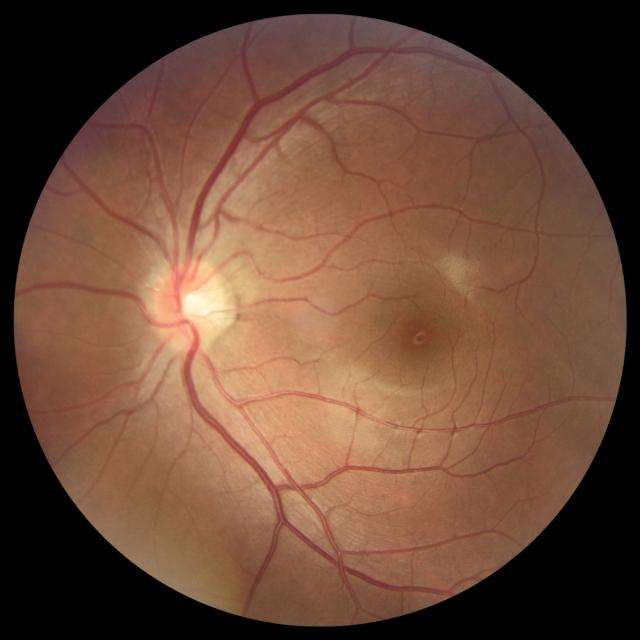OC: (175, 288, 210, 323)
OD: (150, 260, 228, 352)
